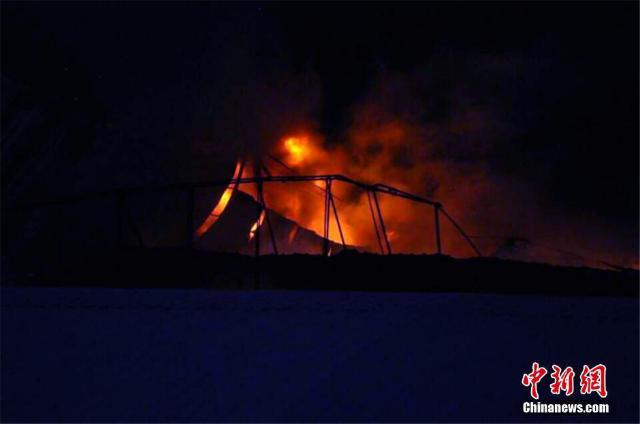fire: (272, 180, 322, 230), (379, 200, 427, 250), (329, 197, 371, 245), (281, 131, 313, 166), (217, 188, 229, 211)
